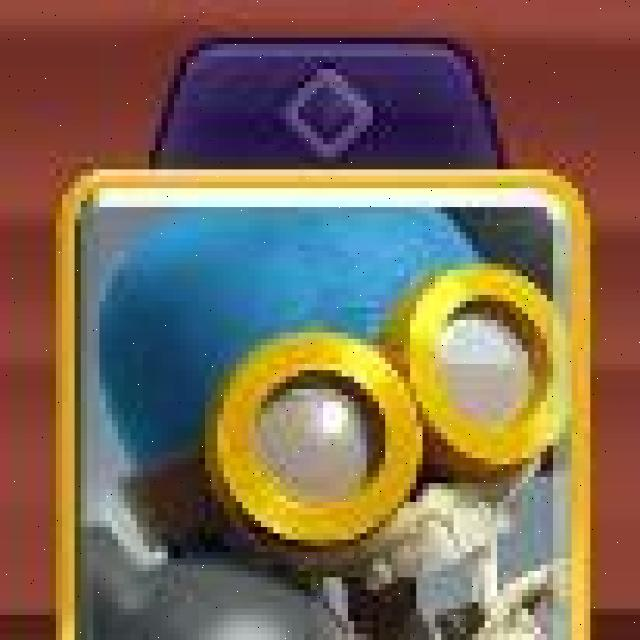Bomber: (54, 168, 589, 640)
